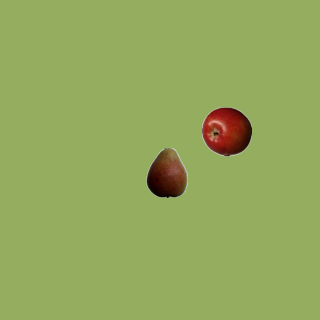Apple Braeburn: (201, 106, 251, 156)
Pear Forelle: (141, 147, 191, 197)
